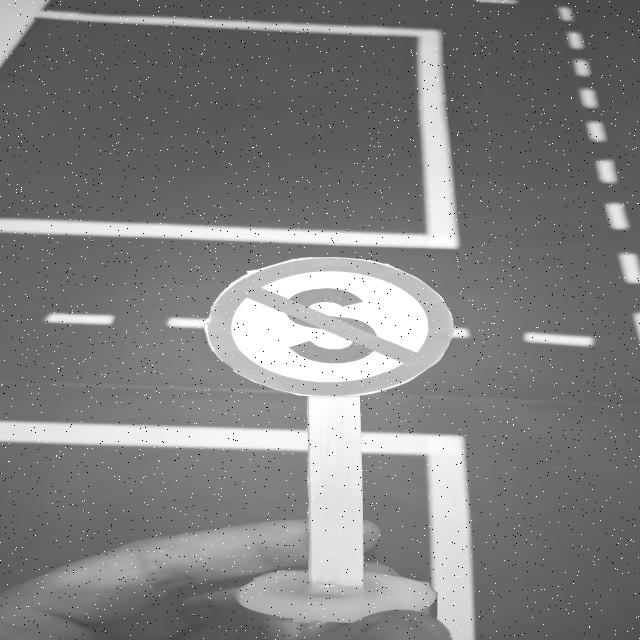Rambu Berhenti: (205, 257, 458, 398)
